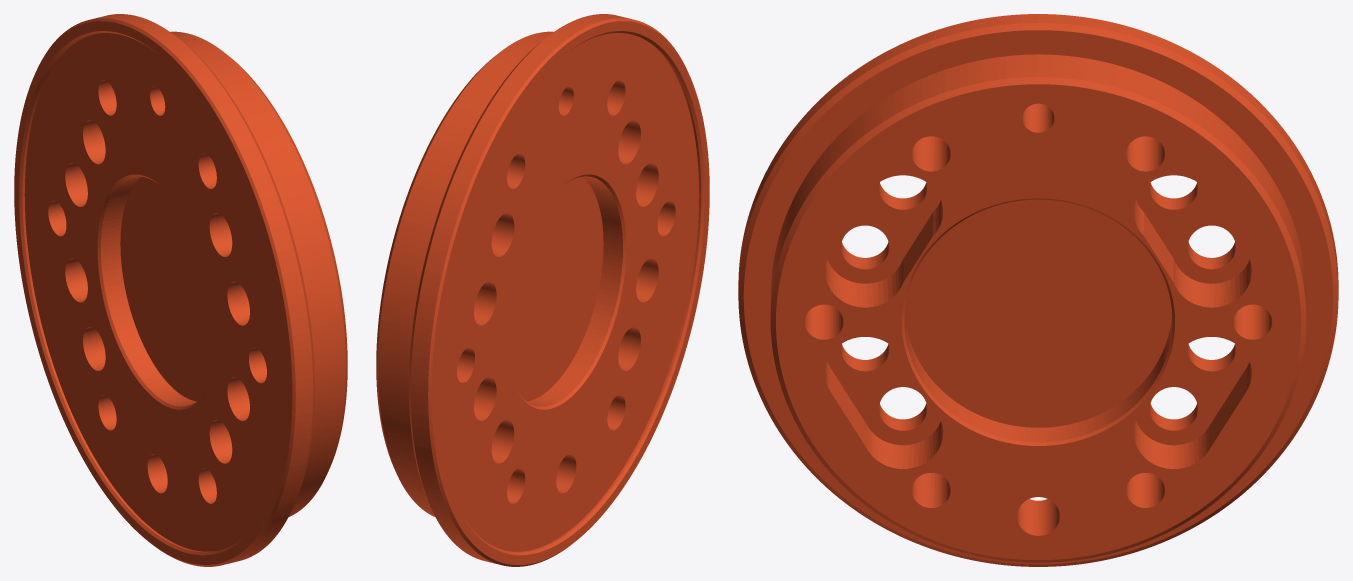
The model's file is MH50_T_AXIS.dae.
3 renders of one model, left to right at view 1: azimuth 30°, elevation 25°; view 2: azimuth 150°, elevation 25°; view 3: azimuth 270°, elevation 25°, orthographic. The views are drawn at different scales.
Parts seen in each view (by area): view 1: 5a96d0cbbdb5a80da7f5d340; view 2: 5a96d0cbbdb5a80da7f5d340; view 3: 5a96d0cbbdb5a80da7f5d340.
Boxes of the visible parts, left/top/right/bottom form: 5a96d0cbbdb5a80da7f5d340: left=14, top=14, right=347, bottom=566; 5a96d0cbbdb5a80da7f5d340: left=376, top=14, right=709, bottom=566; 5a96d0cbbdb5a80da7f5d340: left=738, top=14, right=1338, bottom=566.
Size of the model in its own units: 0.0165 by 0.112 by 0.112.
